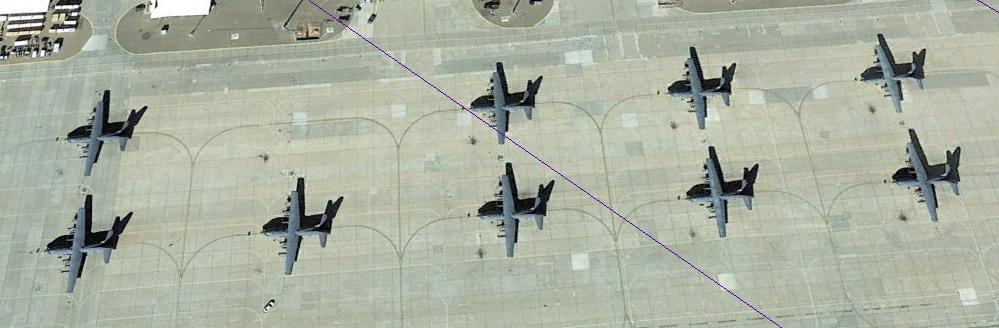C-130: (478, 155, 552, 269), (887, 131, 969, 228), (256, 182, 342, 274), (47, 204, 125, 297), (62, 87, 135, 179), (684, 151, 757, 238), (471, 64, 541, 150), (663, 56, 740, 134), (859, 37, 930, 119)
